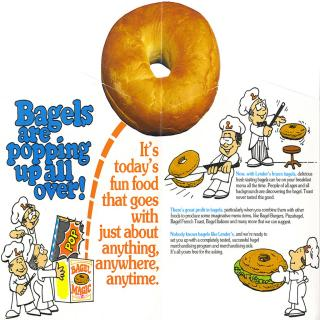Doughnut: (101, 2, 221, 139)
